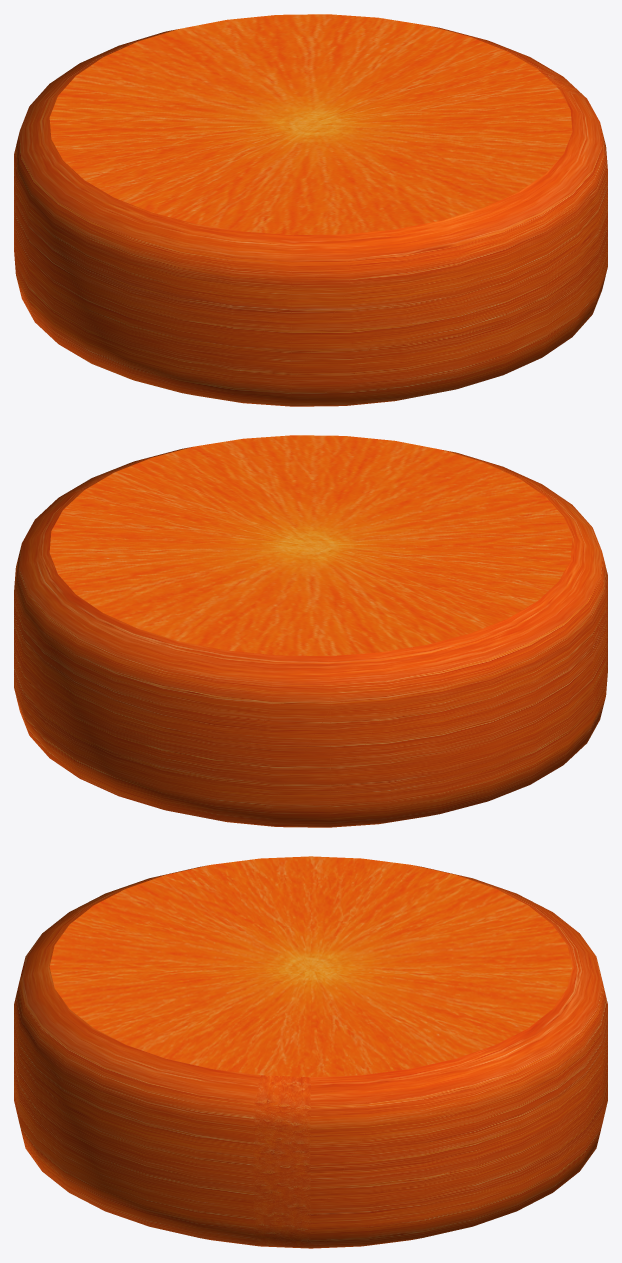
Rendered from carrot_slice-jh5p6Yi4.glb.
The picture shows the model from 3 angles, top to bottom: view 1: azimuth 30°, elevation 25°; view 2: azimuth 150°, elevation 25°; view 3: azimuth 270°, elevation 25°; orthographic projection.
Parts seen in each view (by area): view 1: FLC_carrot_slice; view 2: FLC_carrot_slice; view 3: FLC_carrot_slice.
Boxes of the visible parts, <box> form: FLC_carrot_slice: <box>14,14,607,406</box>; FLC_carrot_slice: <box>14,435,607,827</box>; FLC_carrot_slice: <box>14,856,607,1248</box>.
Bounding box in the file's own units: 0.22 × 0.07 × 0.22.
Materials: 1 (1 with a texture image).
